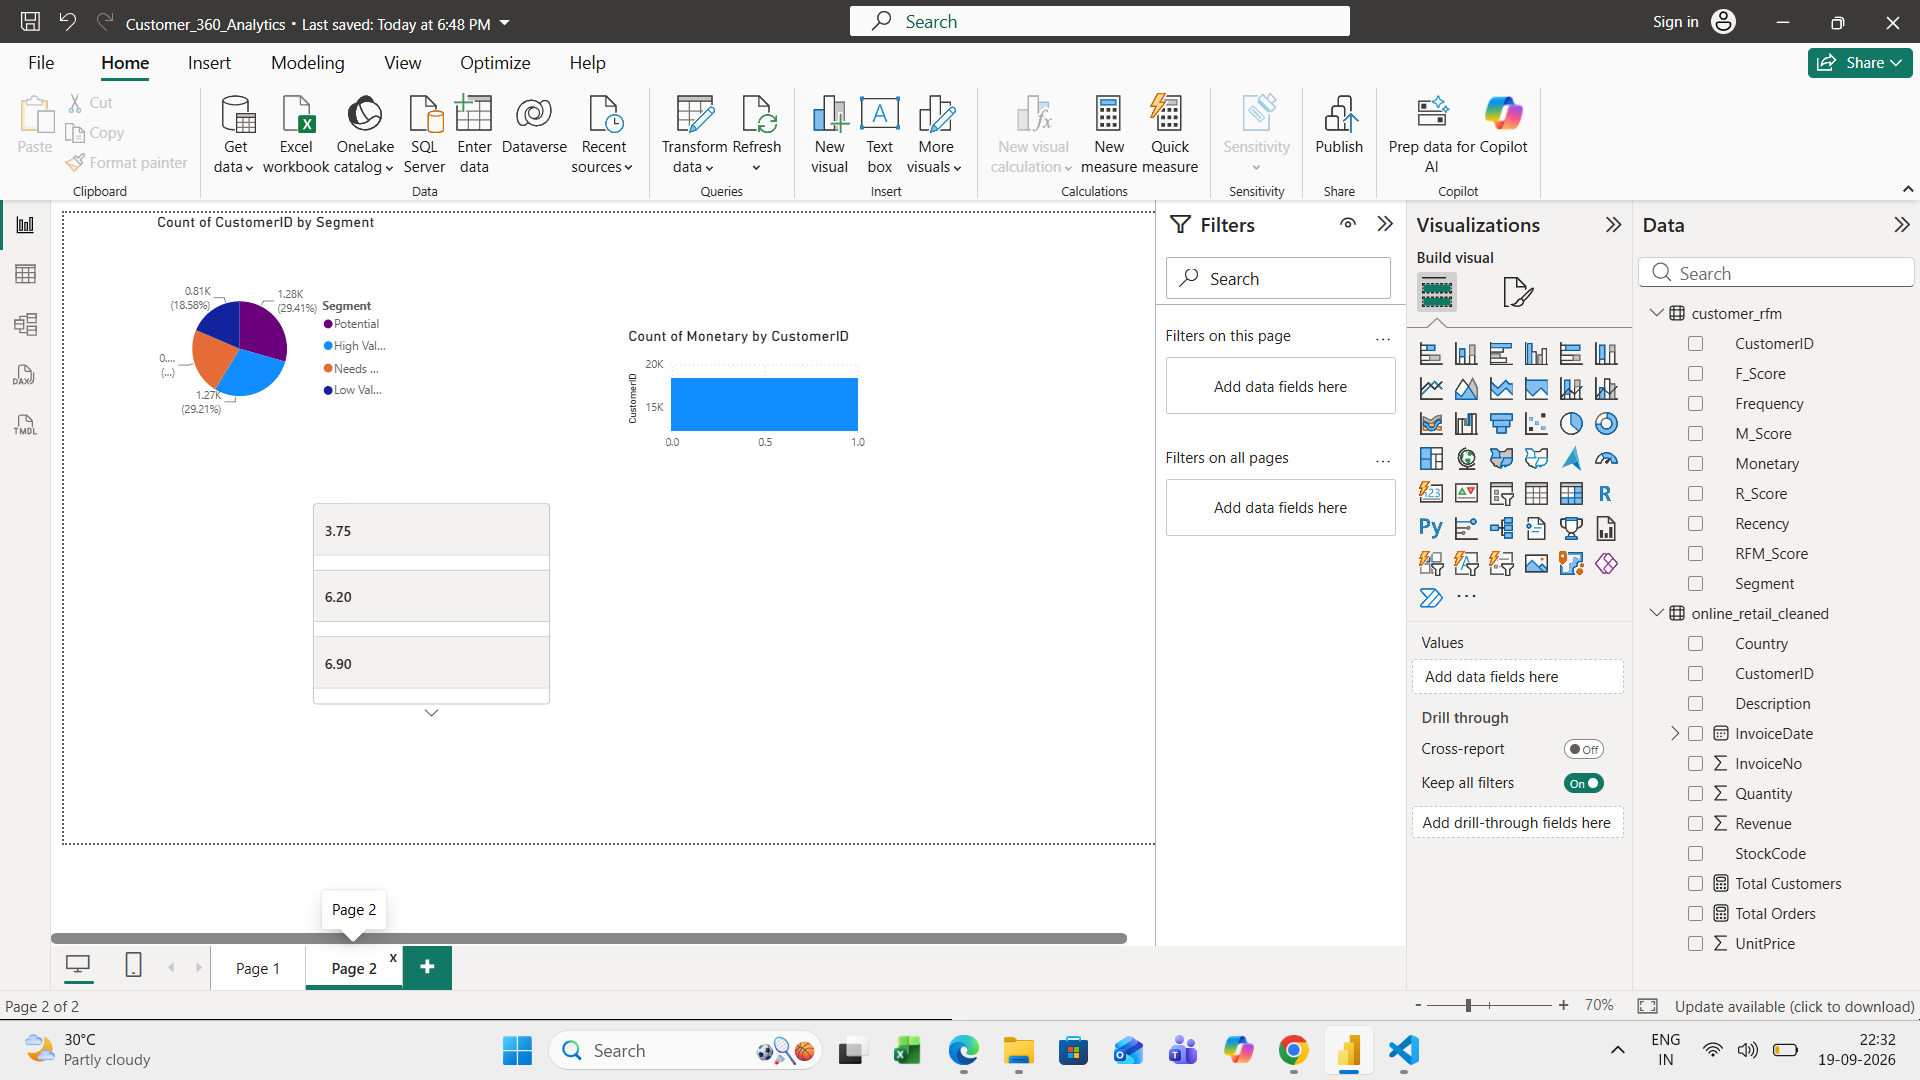

Layout of this report page (visuals, bound fields, positions):
{"tool":"powerbi","page":{"name":"Page 2","canvas":[1280,720],"ordinal":1},"visuals":[{"type":"pieChart","fields":{"Category":["customer_rfm.Segment"],"Y":["CountNonNull(customer_rfm.CustomerID)"]},"box":[101.4,0,280,280],"z":0},{"type":"cardVisual","fields":{"Rows":["customer_rfm.Monetary"]},"box":[280,307.1,280,280],"z":1},{"type":"clusteredBarChart","fields":{"Category":["customer_rfm.CustomerID"],"Y":["CountNonNull(customer_rfm.Monetary)"]},"box":[640,130,280,150],"z":2}]}

Visuals, with their boxes on the page's 1280x720 design canvas (x1, y1, x2, y2). These are canvas units, not pixel positions in the 1920x1080 screenshot, which may show the page scaled, cropped or inside an application window:
pieChart - customer_rfm.Segment x CountNonNull(customer_rfm.CustomerID): box(101, 0, 381, 280)
cardVisual - customer_rfm.Monetary: box(280, 307, 560, 587)
clusteredBarChart - customer_rfm.CustomerID x CountNonNull(customer_rfm.Monetary): box(640, 130, 920, 280)
